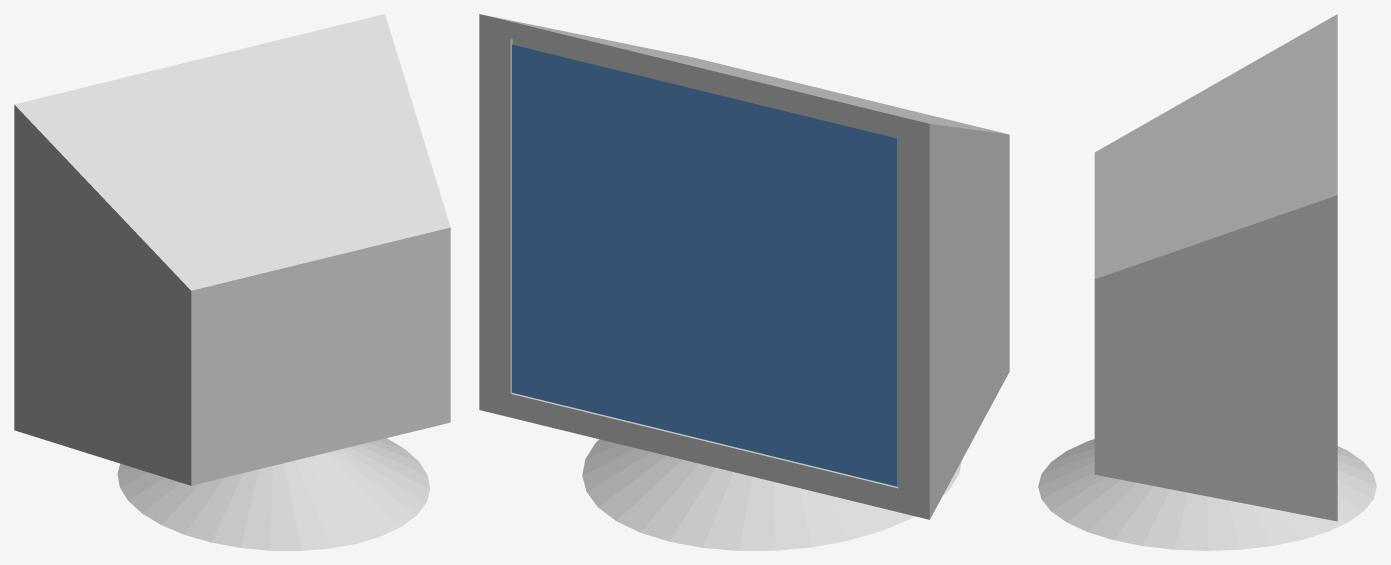
Rendered from monitor.fbx.
The picture shows the model from 3 angles, left to right: view 1: azimuth 30°, elevation 25°; view 2: azimuth 150°, elevation 25°; view 3: azimuth 270°, elevation 25°; orthographic projection. The views are drawn at different scales.
Visible parts, largest first — view 1: Monitor, Podstawka monitora; view 2: Screen, Monitor, Podstawka monitora; view 3: Monitor, Podstawka monitora.
Boxes of the visible parts, left/top/right/bottom form: Monitor: left=14, top=14, right=450, bottom=485; Podstawka monitora: left=117, top=438, right=429, bottom=550; Screen: left=512, top=44, right=896, bottom=486; Monitor: left=479, top=14, right=1009, bottom=519; Podstawka monitora: left=582, top=439, right=961, bottom=550; Monitor: left=1094, top=14, right=1337, bottom=521; Podstawka monitora: left=1038, top=439, right=1376, bottom=550.
Bounding box in the file's own units: 200 × 194 × 158.
